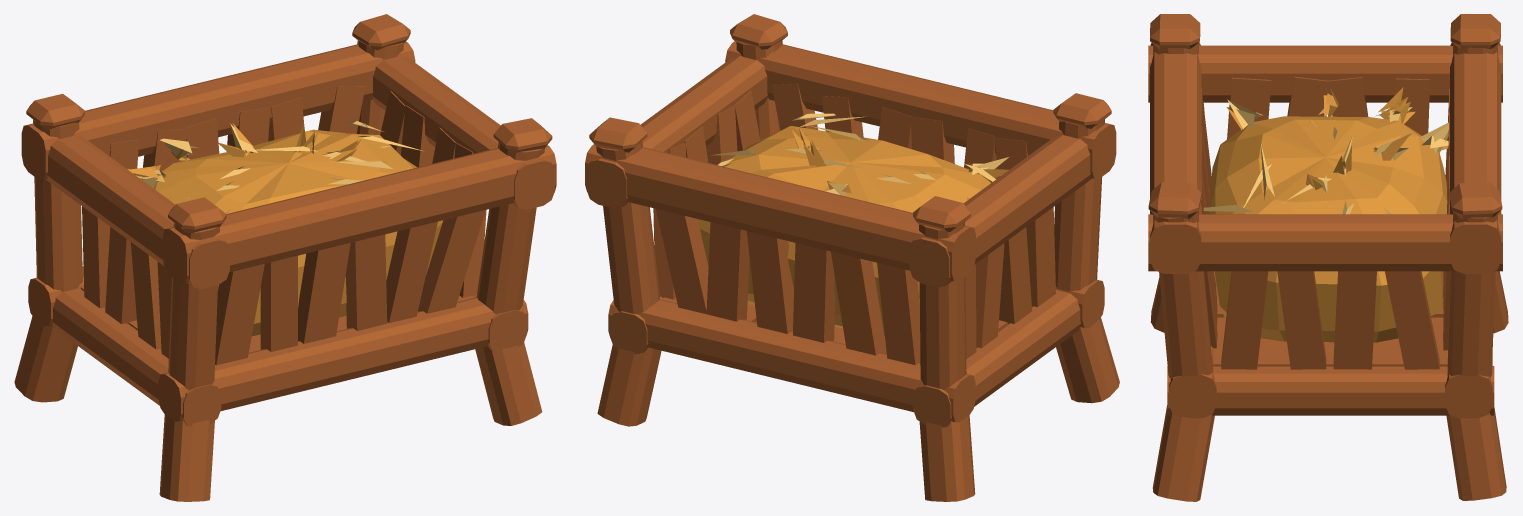
The model's file is hay-partial.glb.
The picture shows the model from 3 angles, left to right: view 1: azimuth 30°, elevation 25°; view 2: azimuth 150°, elevation 25°; view 3: azimuth 270°, elevation 25°; orthographic projection. The views are drawn at different scales.
Visible parts, largest first — view 1: frame, slats, hay, straw_light, straw_gold; view 2: frame, slats, hay, straw_light, straw_gold; view 3: frame, hay, slats, straw_light, straw_gold.
Part boxes in pixels (<box>): frame: <box>14,14,556,501</box>; slats: <box>82,86,486,365</box>; hay: <box>153,129,443,336</box>; straw_light: <box>136,121,423,213</box>; straw_gold: <box>127,122,360,199</box>; frame: <box>585,14,1119,501</box>; slats: <box>653,83,1055,365</box>; hay: <box>697,126,990,336</box>; straw_light: <box>711,113,1008,198</box>; straw_gold: <box>792,127,1008,212</box>; frame: <box>1148,14,1508,501</box>; hay: <box>1208,116,1447,342</box>; slats: <box>1201,76,1450,369</box>; straw_light: <box>1203,99,1448,214</box>; straw_gold: <box>1226,87,1448,189</box>.
Size of the model in its own units: 1.37 by 1.01 by 1.06.
